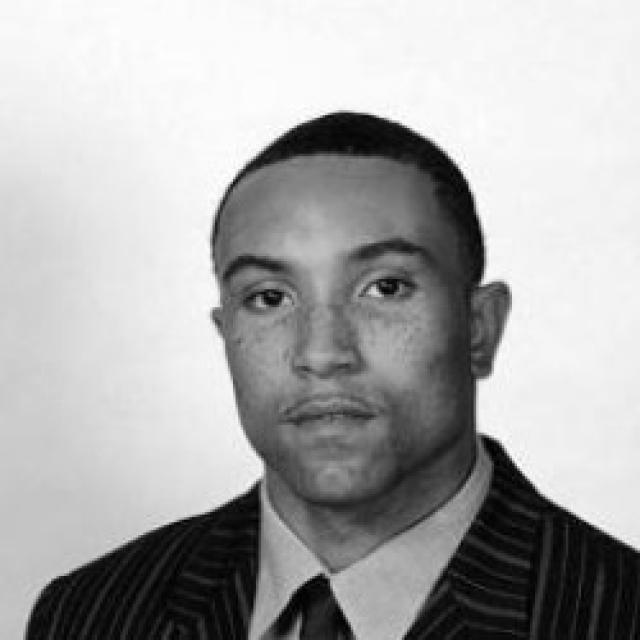real: (211, 142, 478, 510), (224, 253, 430, 321)
